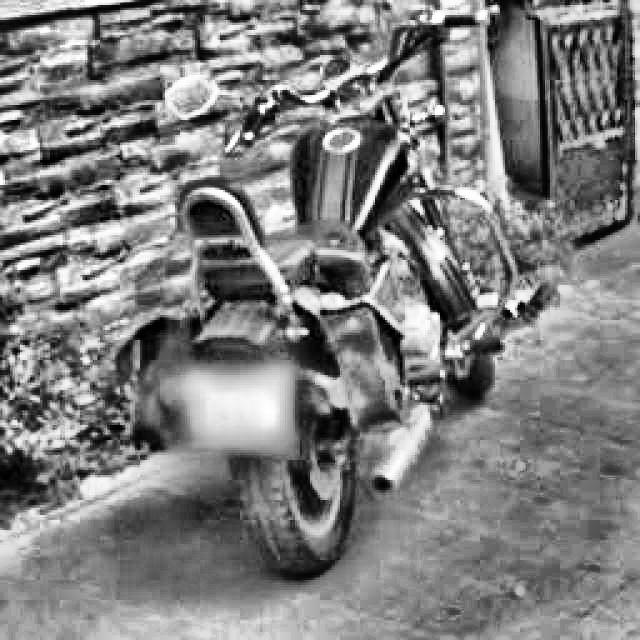motorcycle: (129, 4, 551, 580)
